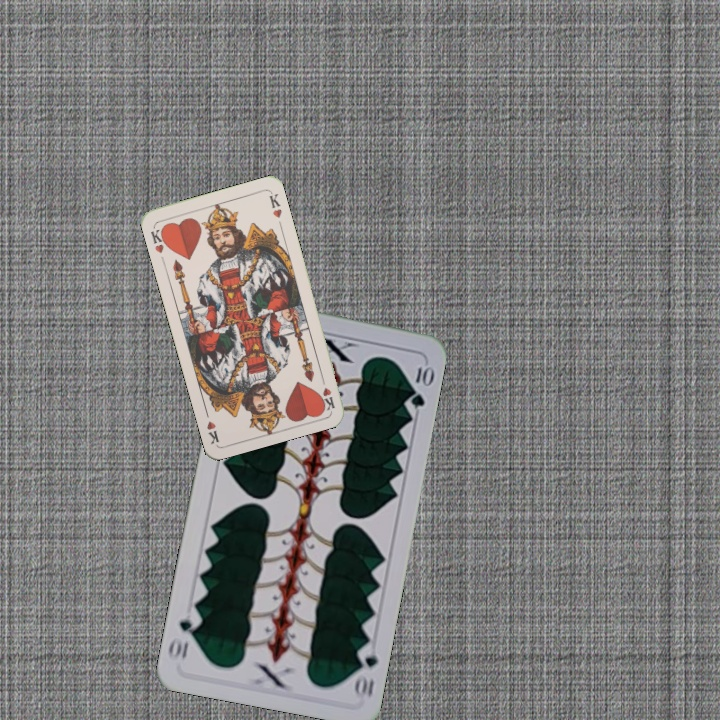G10: (350, 640, 381, 701)
HK: (317, 372, 337, 412), (147, 223, 170, 256)
